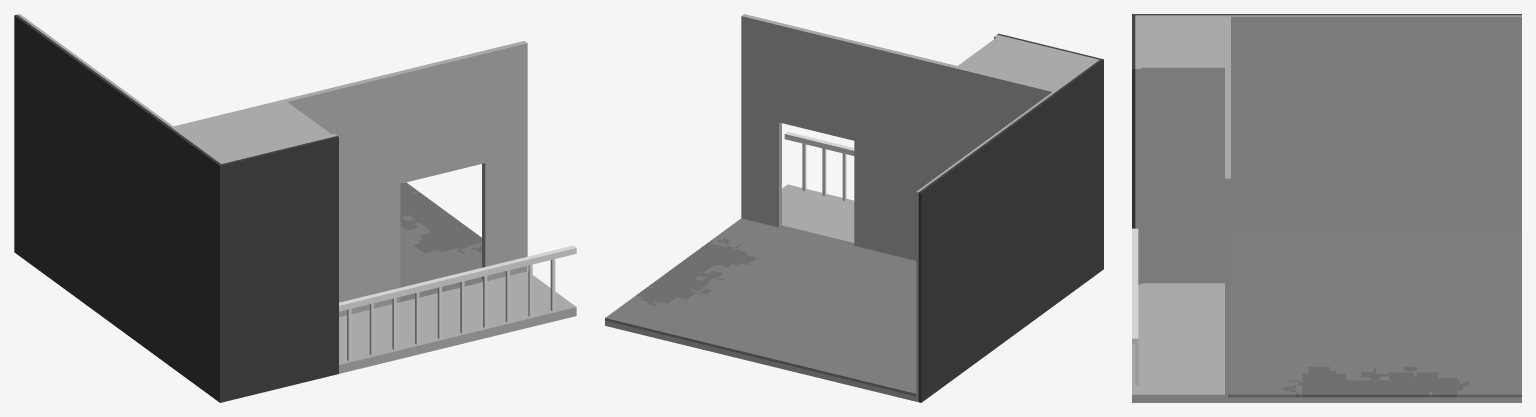
File: 4x2 third (1)-4.obj
The picture shows the model from 3 angles, left to right: view 1: azimuth 30°, elevation 25°; view 2: azimuth 150°, elevation 25°; view 3: azimuth 270°, elevation 25°; orthographic projection. The views are drawn at different scales.
Parts seen in each view (by area): view 1: 4x2 third (1)-4; view 2: 4x2 third (1)-4; view 3: 4x2 third (1)-4.
Boxes of the visible parts, left/top/right/bottom form: 4x2 third (1)-4: left=14, top=14, right=576, bottom=402; 4x2 third (1)-4: left=605, top=14, right=1103, bottom=402; 4x2 third (1)-4: left=1132, top=14, right=1521, bottom=402.
Bounding box in the file's own units: 126 × 80 × 126.
Materials: 1 (1 with a texture image).
